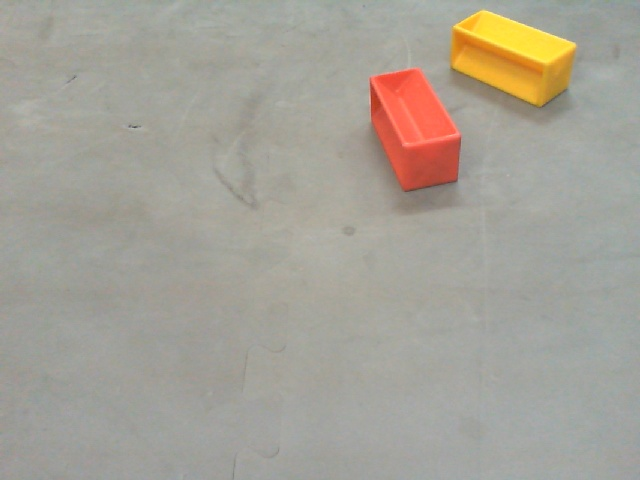RedSample: (368, 68, 463, 190)
YellowSample: (449, 5, 578, 106)
